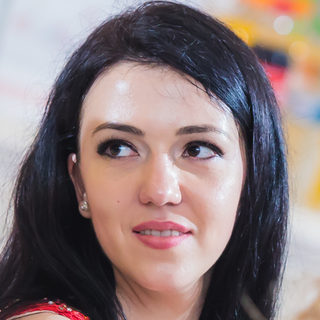eye: (90, 136, 144, 163), (173, 140, 226, 161)
